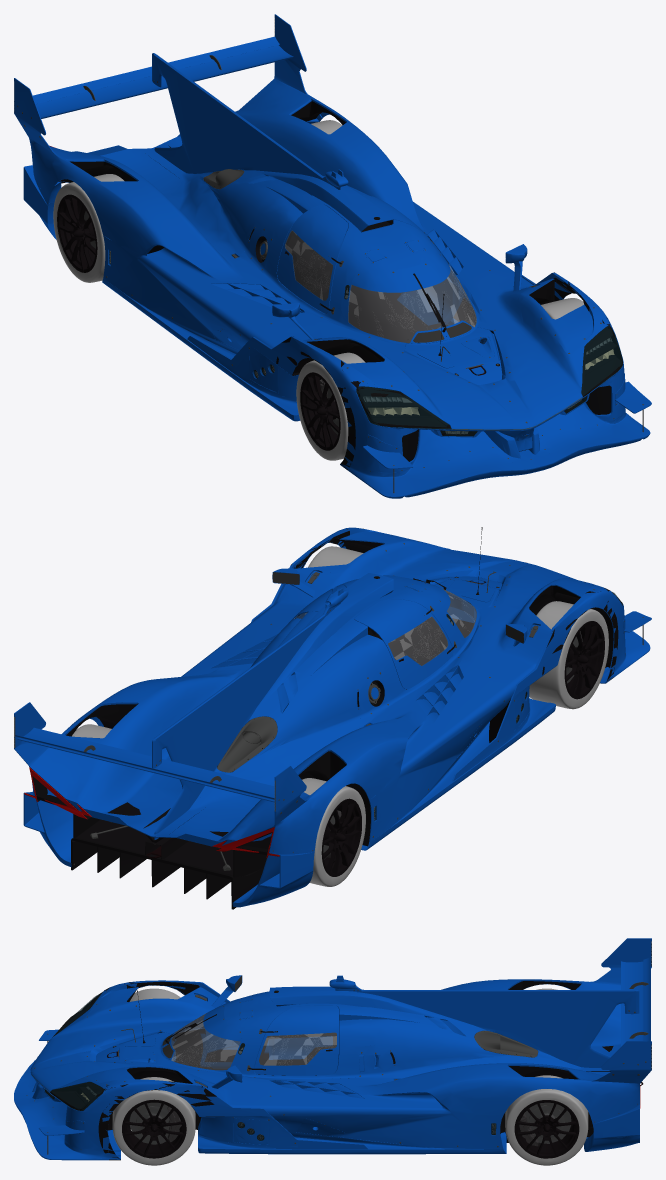
The model's file is alpine-a424.glb.
3 views of the same model, one above another, from view 1: azimuth 30°, elevation 25°; view 2: azimuth 150°, elevation 25°; view 3: azimuth 270°, elevation 25° (orthographic). The views are drawn at different scales.
Visible parts, largest first — view 1: BODY, GLASS, WHEEL_RR, WHEEL_RF; view 2: BODY, WHEEL_RF, WHEEL_RR, GLASS, WHEEL_LF; view 3: BODY, GLASS, WHEEL_LR, WHEEL_LF, WHEEL_RF.
Part boxes in pixels (left/top/right/bottom): BODY: left=14, top=14, right=651, bottom=498; GLASS: left=14, top=18, right=622, bottom=436; WHEEL_RR: left=53, top=174, right=124, bottom=282; WHEEL_RF: left=296, top=352, right=365, bottom=460; BODY: left=14, top=527, right=651, bottom=909; WHEEL_RF: left=529, top=601, right=608, bottom=709; WHEEL_RR: left=302, top=778, right=365, bottom=886; GLASS: left=14, top=588, right=623, bottom=820; WHEEL_LF: left=308, top=546, right=363, bottom=567; BODY: left=14, top=938, right=651, bottom=1160; GLASS: left=32, top=941, right=651, bottom=1140; WHEEL_LR: left=505, top=1075, right=588, bottom=1165; WHEEL_LF: left=112, top=1077, right=195, bottom=1165; WHEEL_RF: left=129, top=988, right=180, bottom=1001.
Size of the model in its own units: 1.99 by 1.19 by 5.
